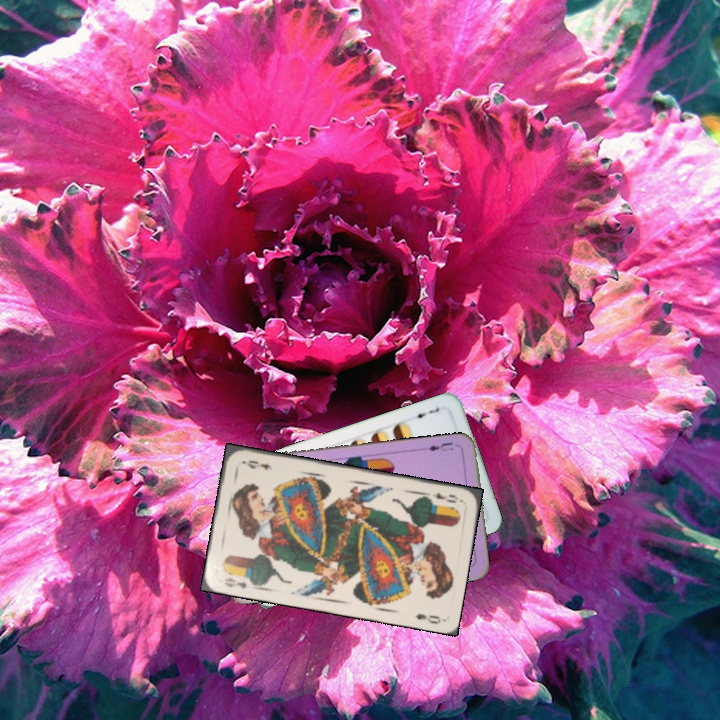E7: (408, 403, 442, 421)
EO: (429, 489, 461, 506), (220, 574, 249, 591)
EU: (424, 438, 456, 454)
